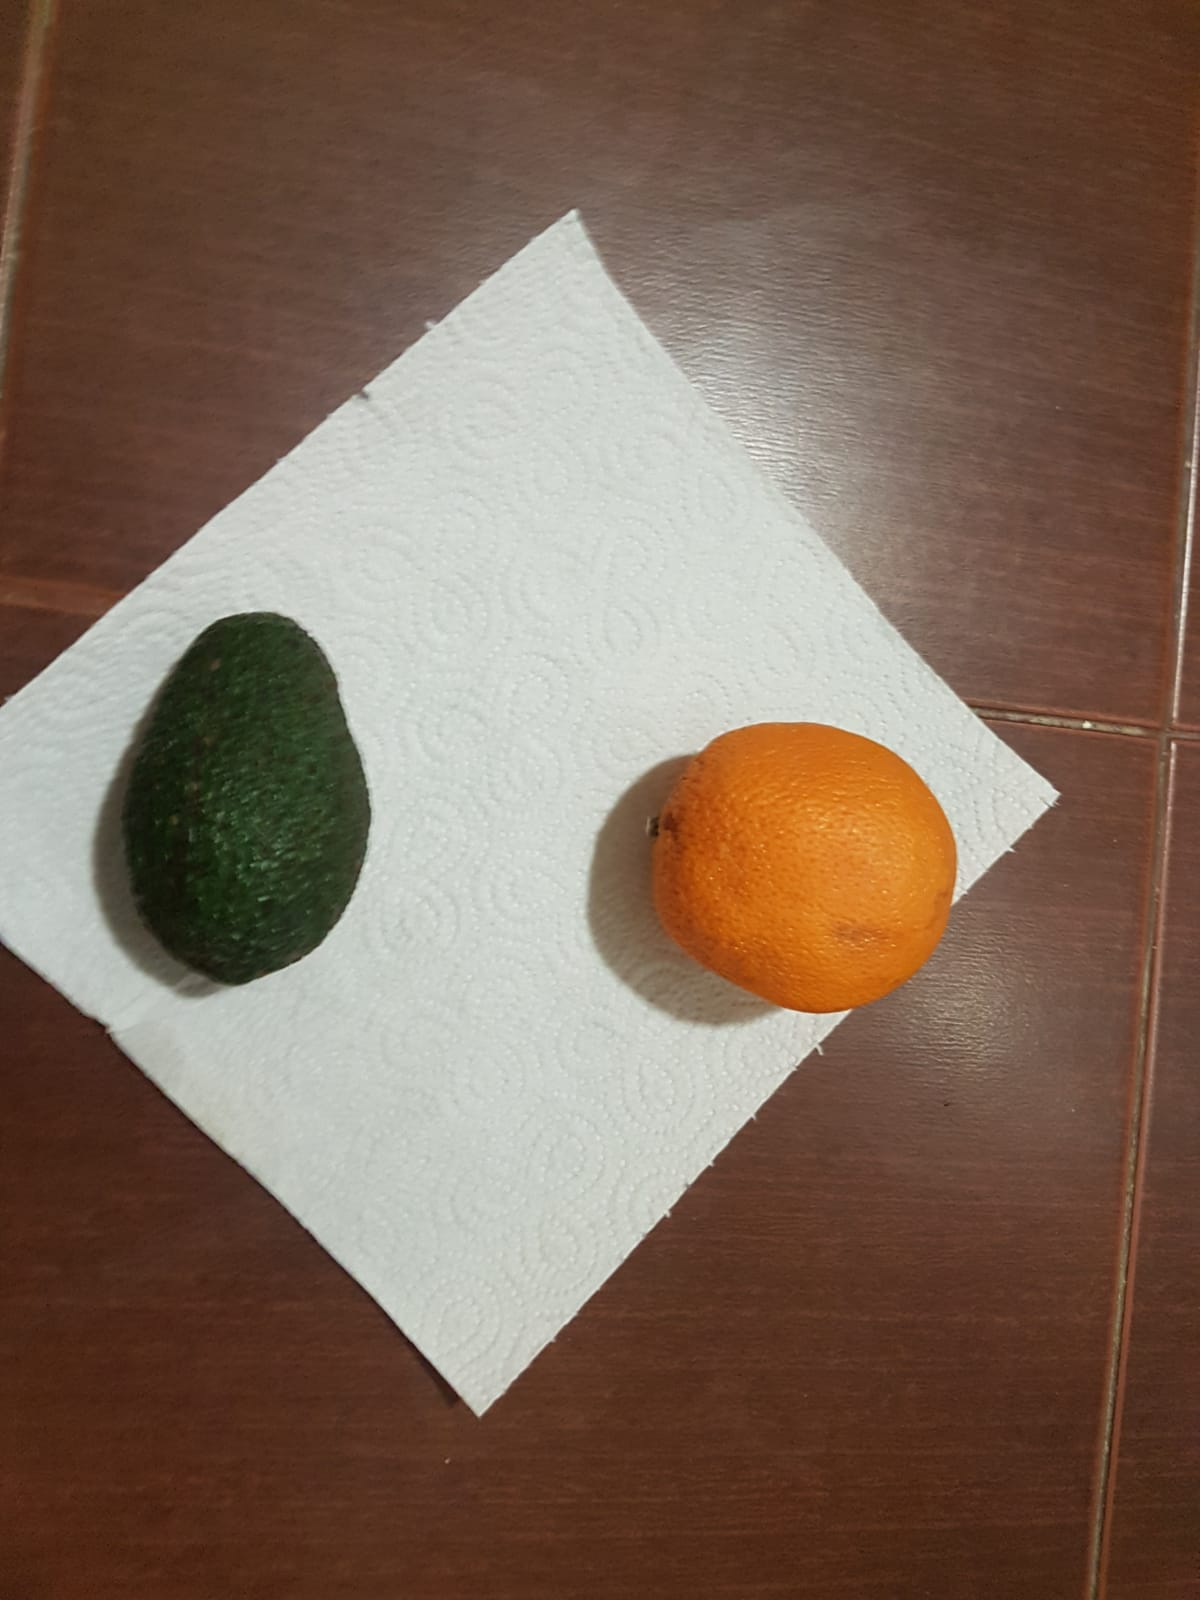Avocado: (136, 611, 372, 988)
Orange: (640, 724, 961, 1018)
